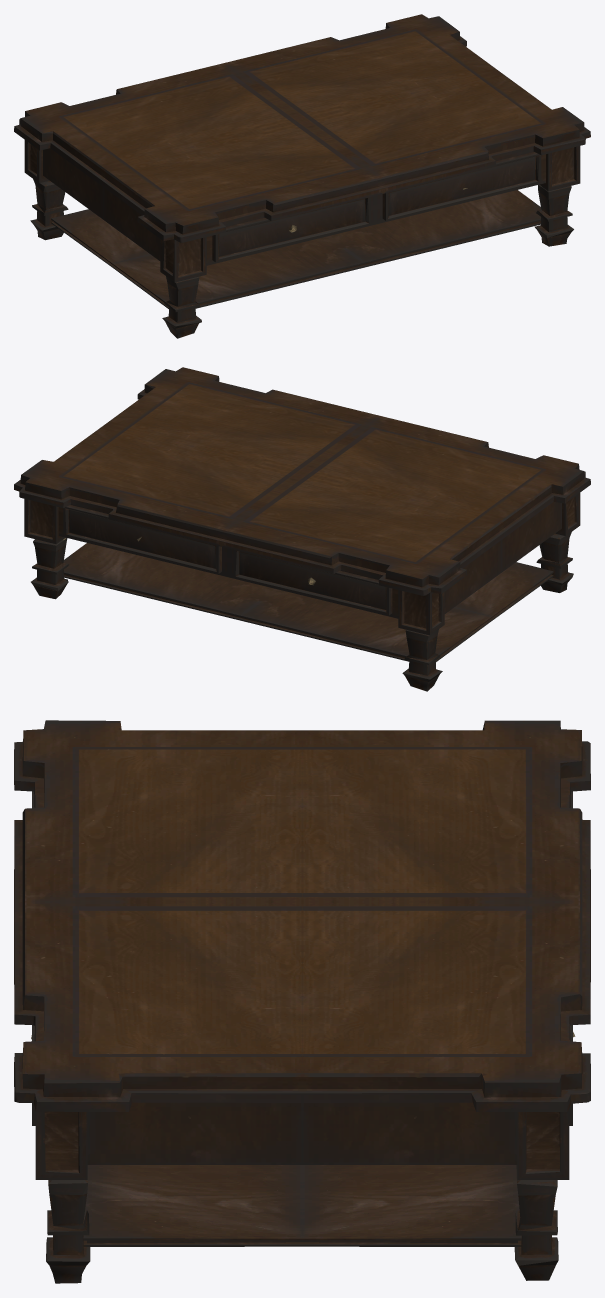
The model's file is coffee_table.glb.
3 renders of one model, top to bottom at view 1: azimuth 30°, elevation 25°; view 2: azimuth 150°, elevation 25°; view 3: azimuth 270°, elevation 25°, orthographic. The views are drawn at different scales.
Visible parts, largest first — view 1: SM_coffe_table_3_Plane_014; view 2: SM_coffe_table_3_Plane_014; view 3: SM_coffe_table_3_Plane_014.
Boxes of the visible parts, box(x1,y1,x2,y2) form: SM_coffe_table_3_Plane_014: box(14, 14, 590, 338); SM_coffe_table_3_Plane_014: box(14, 367, 590, 691); SM_coffe_table_3_Plane_014: box(14, 720, 590, 1283).
Bounding box in the file's own units: 1.66 × 0.447 × 1.09.
1 material, 1 textured.
